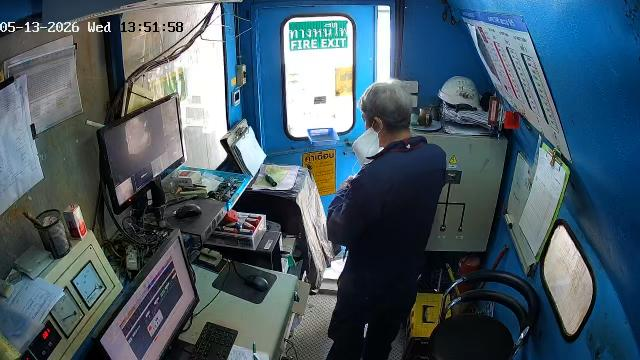Head: (359, 80, 411, 146)
People: (327, 81, 445, 359)
